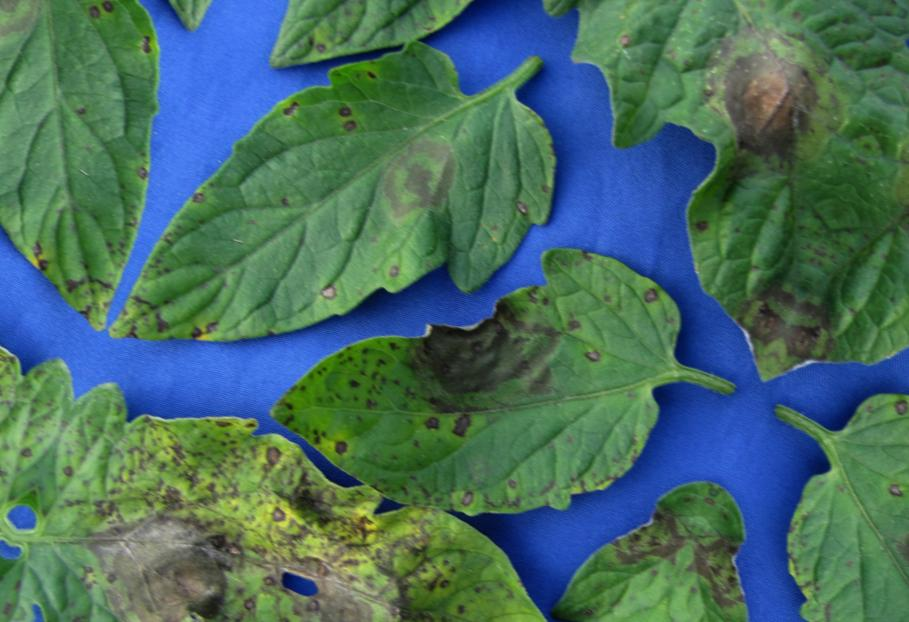Tomato leaf late blight: (230, 136, 755, 612), (101, 0, 581, 479), (403, 0, 909, 454), (0, 345, 636, 622), (76, 461, 634, 622), (248, 0, 577, 155)
